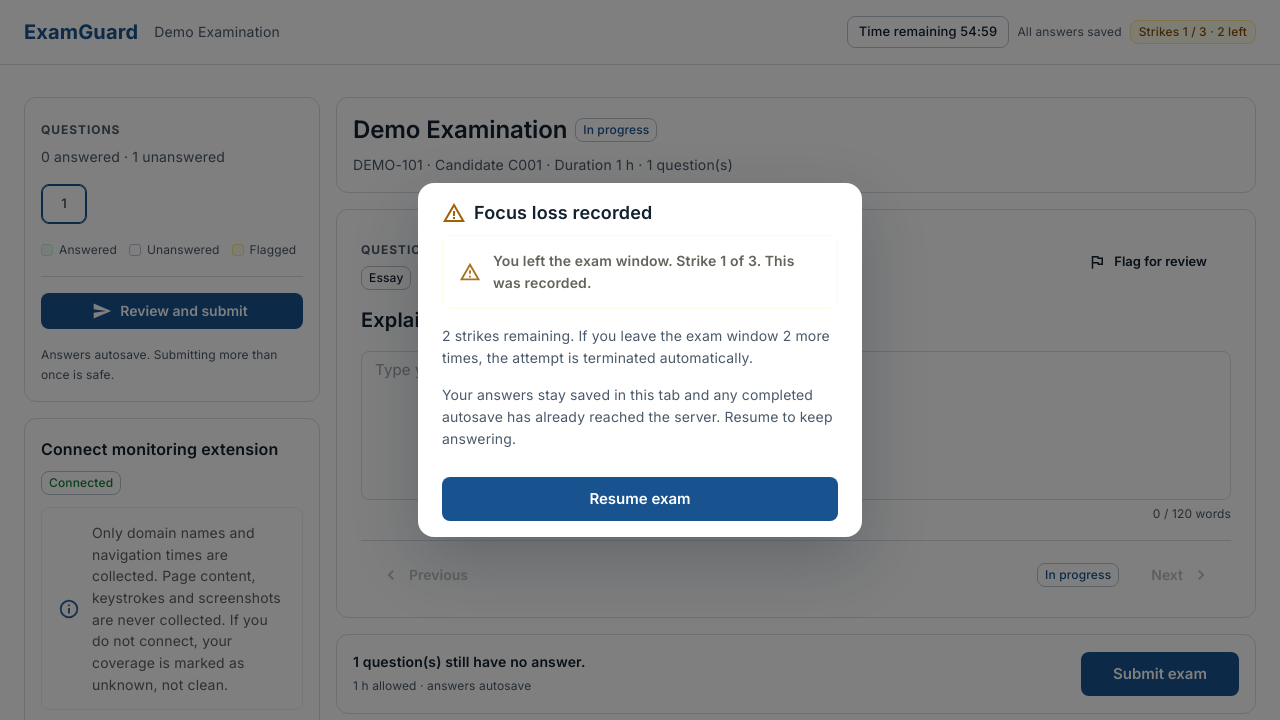
Scenario: AttemptEditor integrity monitoring › opens the blocking warning after a focus loss and terminates on the third strike
Expected: the heading "Explain the concept." is shown, [361,308,561,332]
Expected: the text "You left the exam window. Strike 1 of 3. This was recorded." is shown, [493,242,821,302]
Step 1. Click the button "Resume exam" → [640, 499], box [442,477,838,521]
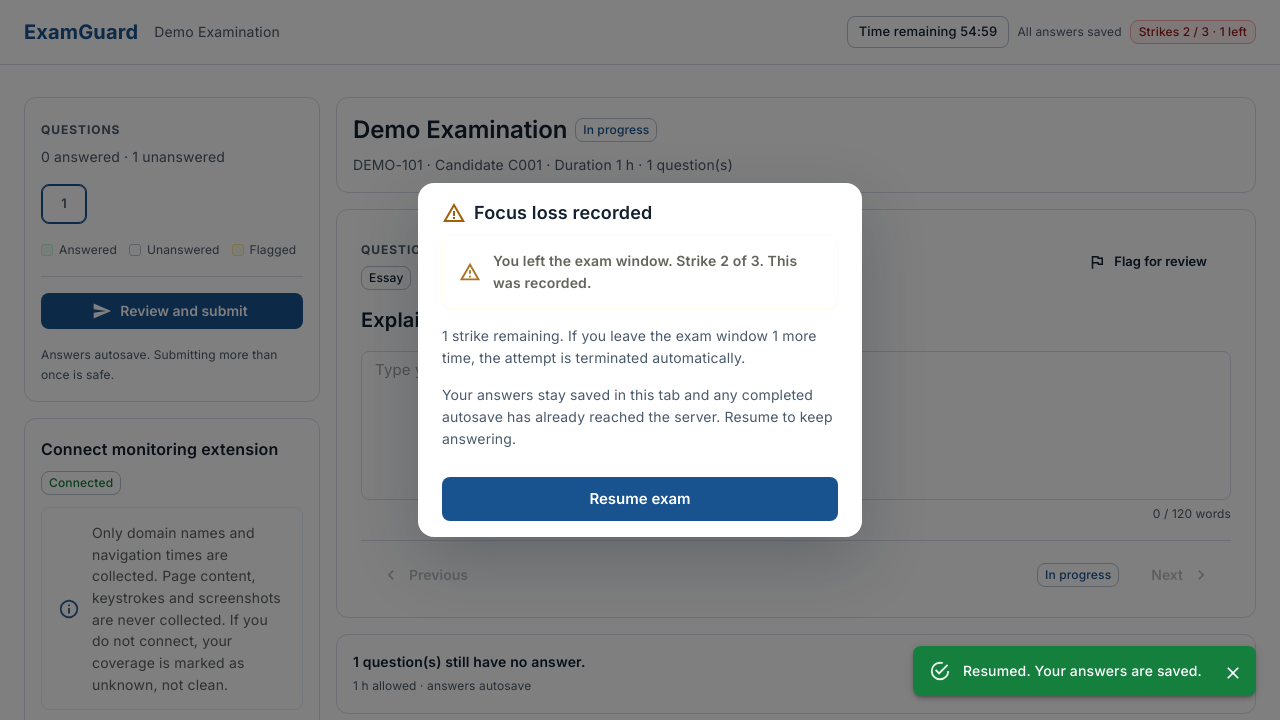
Now the text "Strike 1 of 3" is gone
Now the text "You left the exam window. Strike 2 of 3. This was recorded." is shown, box [493,242,821,302]
Step 2. Click the button "Resume exam" → [640, 499], box [442,477,838,521]
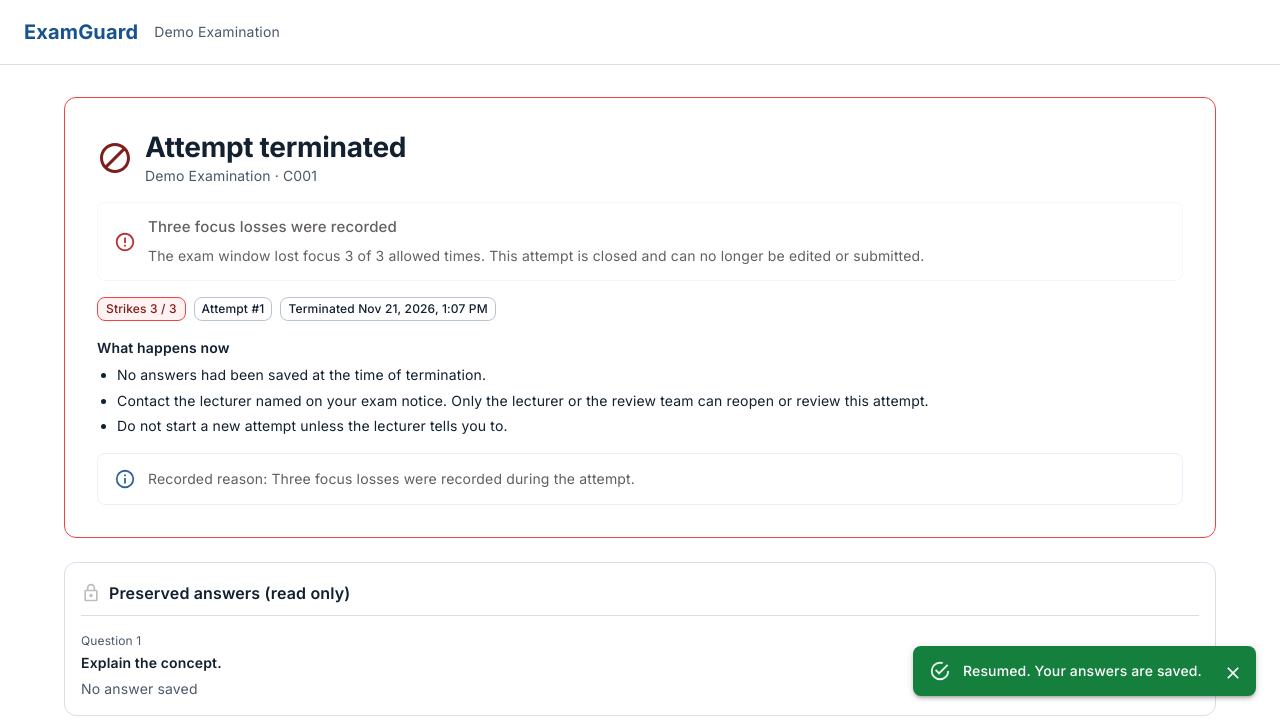
Now the text "Strike 2 of 3" is gone
Now the heading "Attempt terminated" is shown, box [145,130,406,165]
Now the text "Three focus losses were recorded" is shown, box [148,217,397,236]
